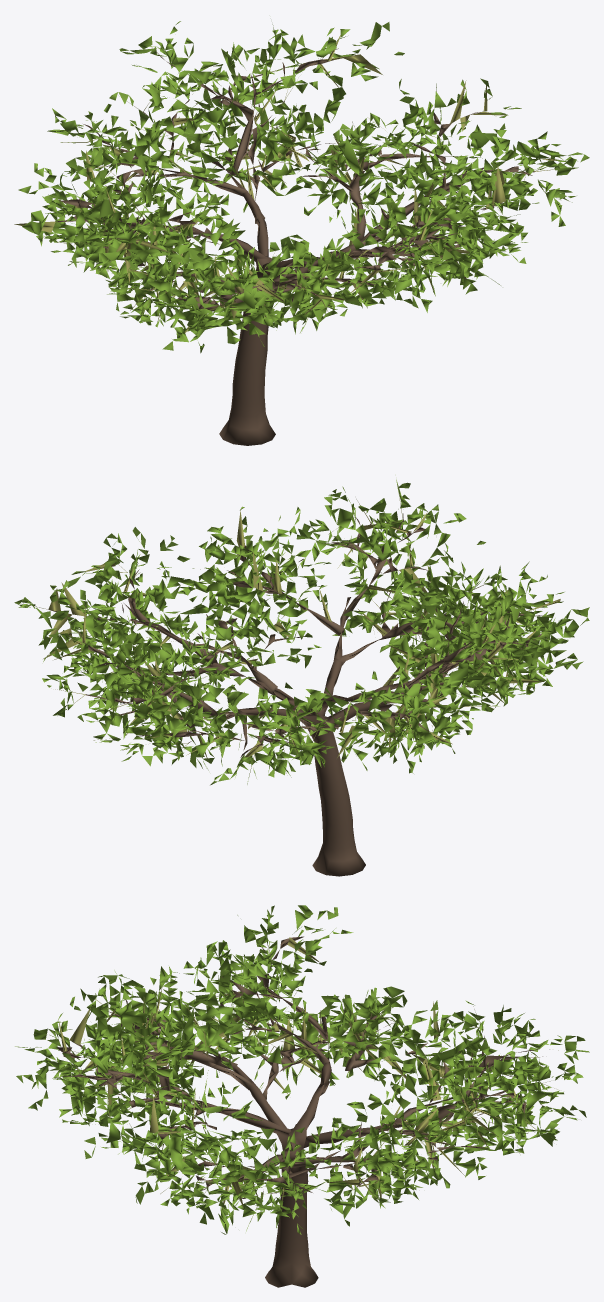
Rendered from 14_3_mid.glb.
3 views of the same model, one above another, from view 1: azimuth 30°, elevation 25°; view 2: azimuth 150°, elevation 25°; view 3: azimuth 270°, elevation 25° (orthographic). The views are drawn at different scales.
Parts seen in each view (by area): view 1: body; view 2: body; view 3: body.
Boxes of the visible parts, <box> form: body: <box>14,21,589,445</box>; body: <box>14,479,589,876</box>; body: <box>15,905,589,1287</box>.
Size of the model in its own units: 11.28 by 6.37 by 11.28.
1 material, 1 textured.
